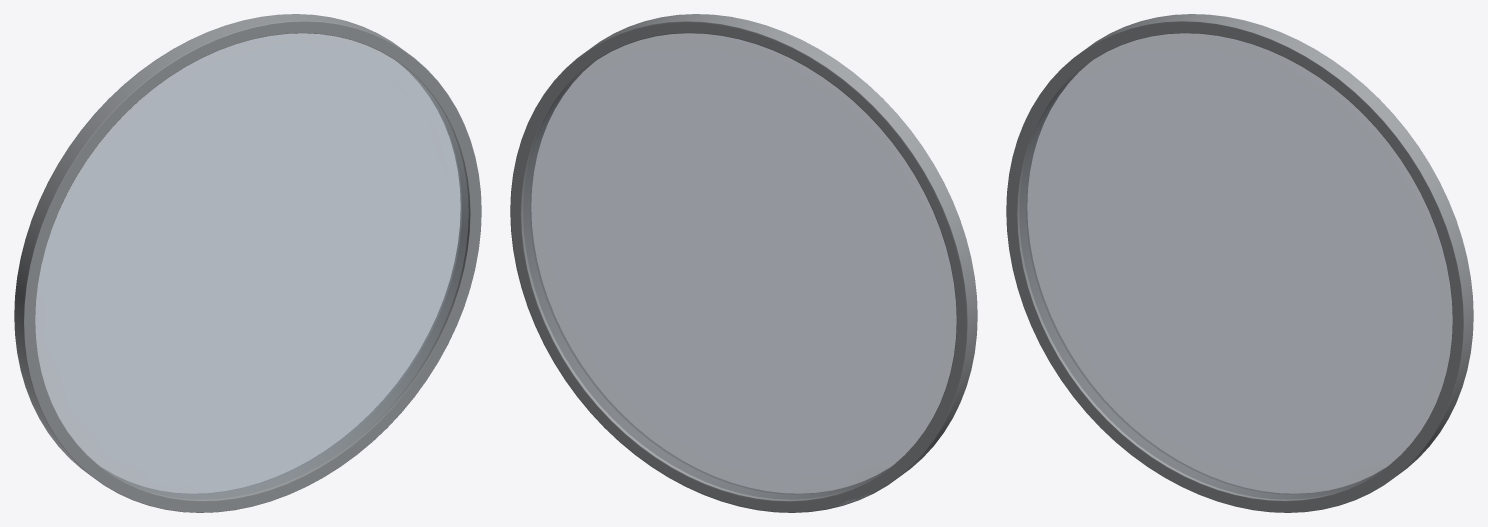
The model's file is m_prom_window_lod1.fbx.
3 renders of one model, left to right at view 1: azimuth 30°, elevation 25°; view 2: azimuth 150°, elevation 25°; view 3: azimuth 330°, elevation 25°, orthographic.
Visible parts, largest first — view 1: polySurface4, polySurface3; view 2: polySurface4, polySurface3; view 3: polySurface4, polySurface3.
Part boxes in pixels (x1=…): polySurface4: x1=35, y1=33, x2=468, y2=499; polySurface3: x1=14, y1=14, x2=481, y2=512; polySurface4: x1=523, y1=33, x2=956, y2=499; polySurface3: x1=510, y1=14, x2=977, y2=512; polySurface4: x1=1019, y1=33, x2=1452, y2=499; polySurface3: x1=1006, y1=14, x2=1473, y2=512.
Size of the model in its own units: 39.88 by 39.88 by 1.5.
